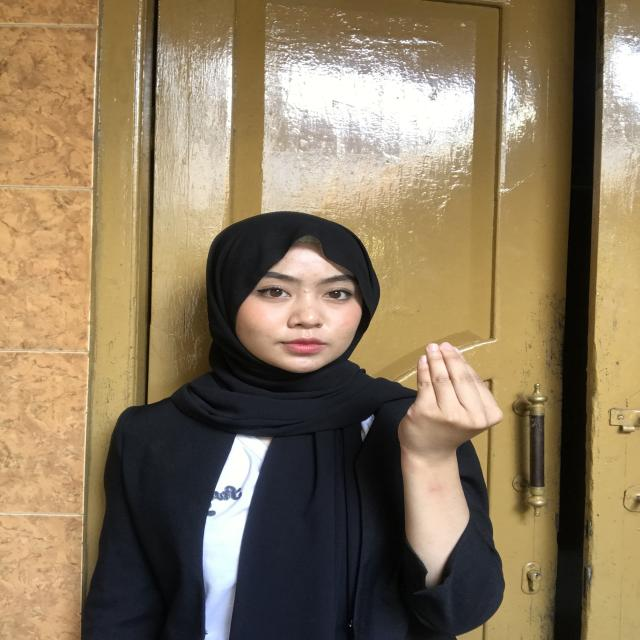kapan: (403, 336, 510, 470)
